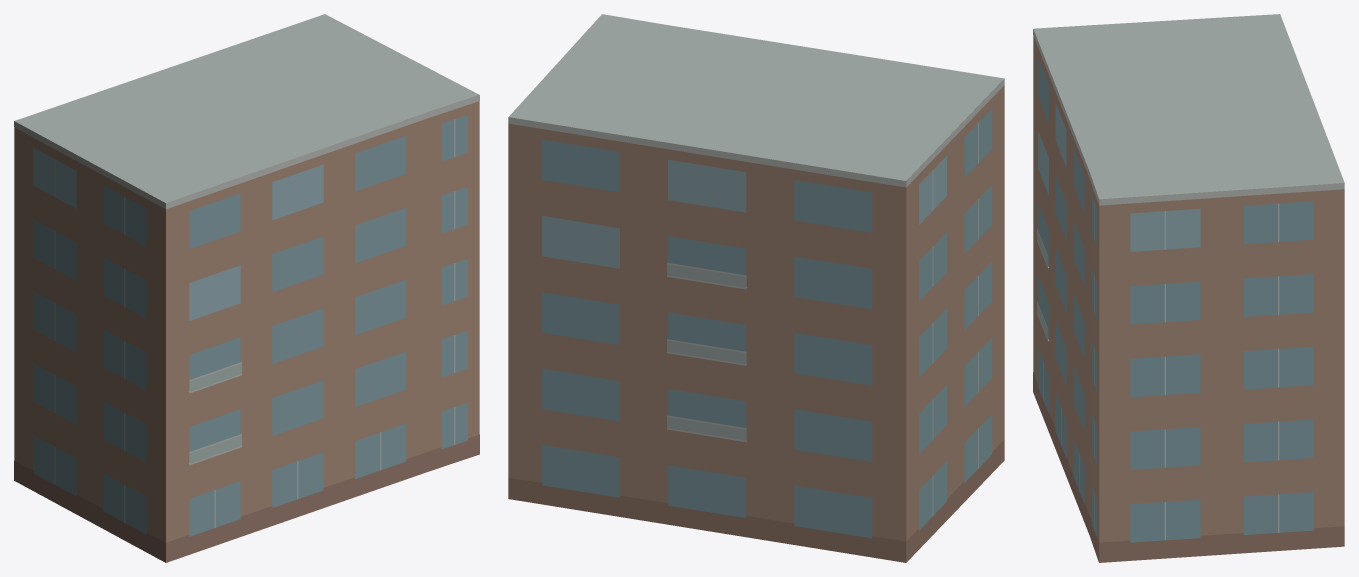
File: survey-upis-33014057.glb
The picture shows the model from 3 angles, left to right: view 1: azimuth 30°, elevation 25°; view 2: azimuth 150°, elevation 25°; view 3: azimuth 270°, elevation 25°; orthographic projection. The views are drawn at different scales.
Visible parts, largest first — view 1: survey-upis-33014057.tmp; view 2: survey-upis-33014057.tmp; view 3: survey-upis-33014057.tmp.
Boxes of the visible parts, x1,y1,x2,y2 form: survey-upis-33014057.tmp: (14,14,479,562); survey-upis-33014057.tmp: (508,14,1004,562); survey-upis-33014057.tmp: (1033,14,1344,562).
Bounding box in the file's own units: 15.65 × 14.3 × 11.12.
